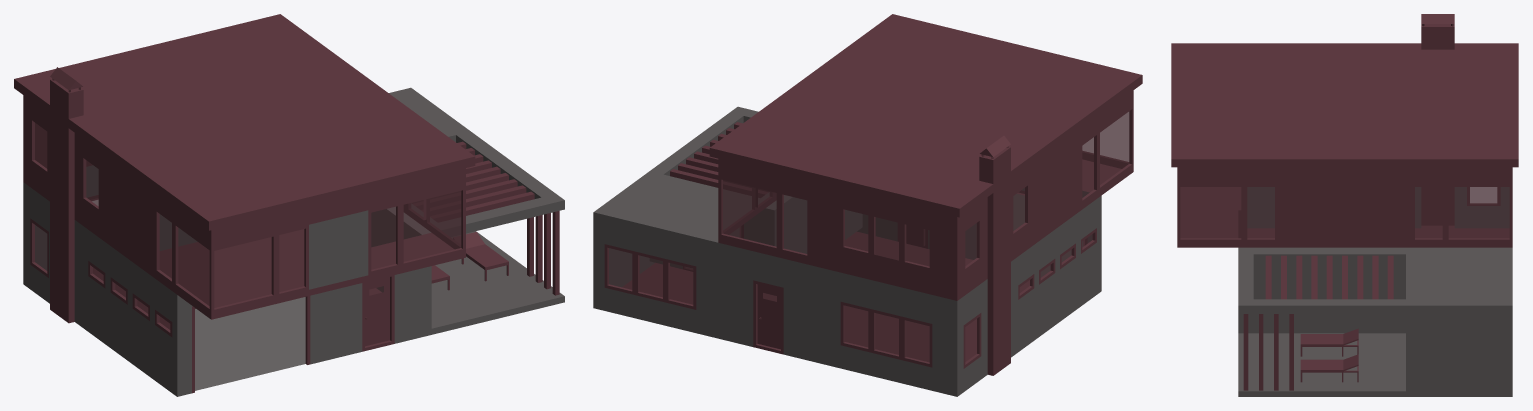
The model's file is building-house-modern.fbx.
3 renders of one model, left to right at view 1: azimuth 30°, elevation 25°; view 2: azimuth 150°, elevation 25°; view 3: azimuth 270°, elevation 25°, orthographic. The views are drawn at different scales.
Visible parts, largest first — view 1: building-house-modern; view 2: building-house-modern; view 3: building-house-modern.
Boxes of the visible parts, box(x1,y1,x2,y2) form: building-house-modern: box(14, 14, 564, 396); building-house-modern: box(593, 14, 1142, 396); building-house-modern: box(1171, 14, 1518, 396).
Size of the model in its own units: 13.3 by 7.77 by 11.4.
